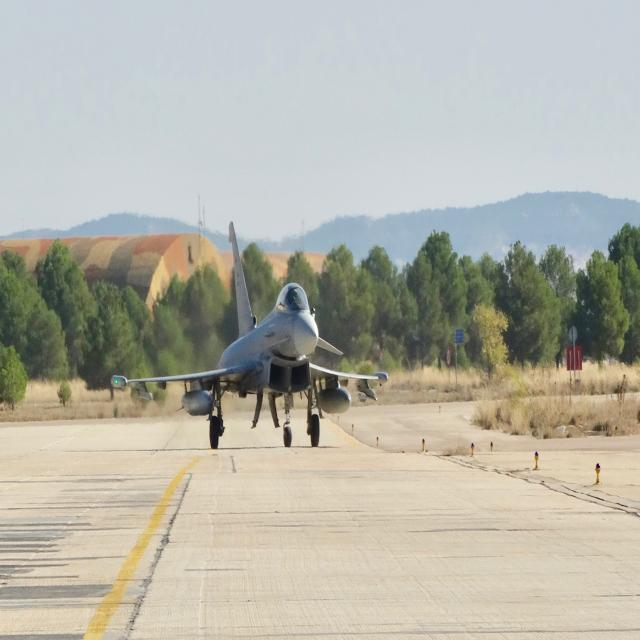MIL_Plane: (110, 221, 388, 449)
